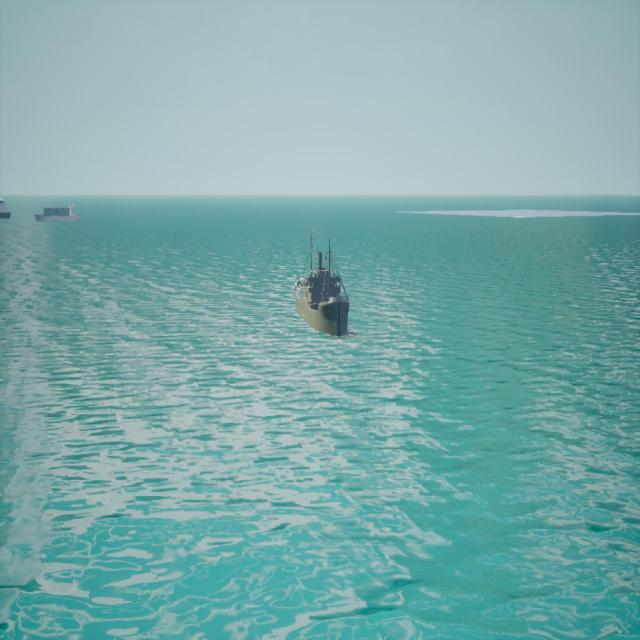fishing ship: (294, 233, 351, 339), (36, 205, 81, 224)
